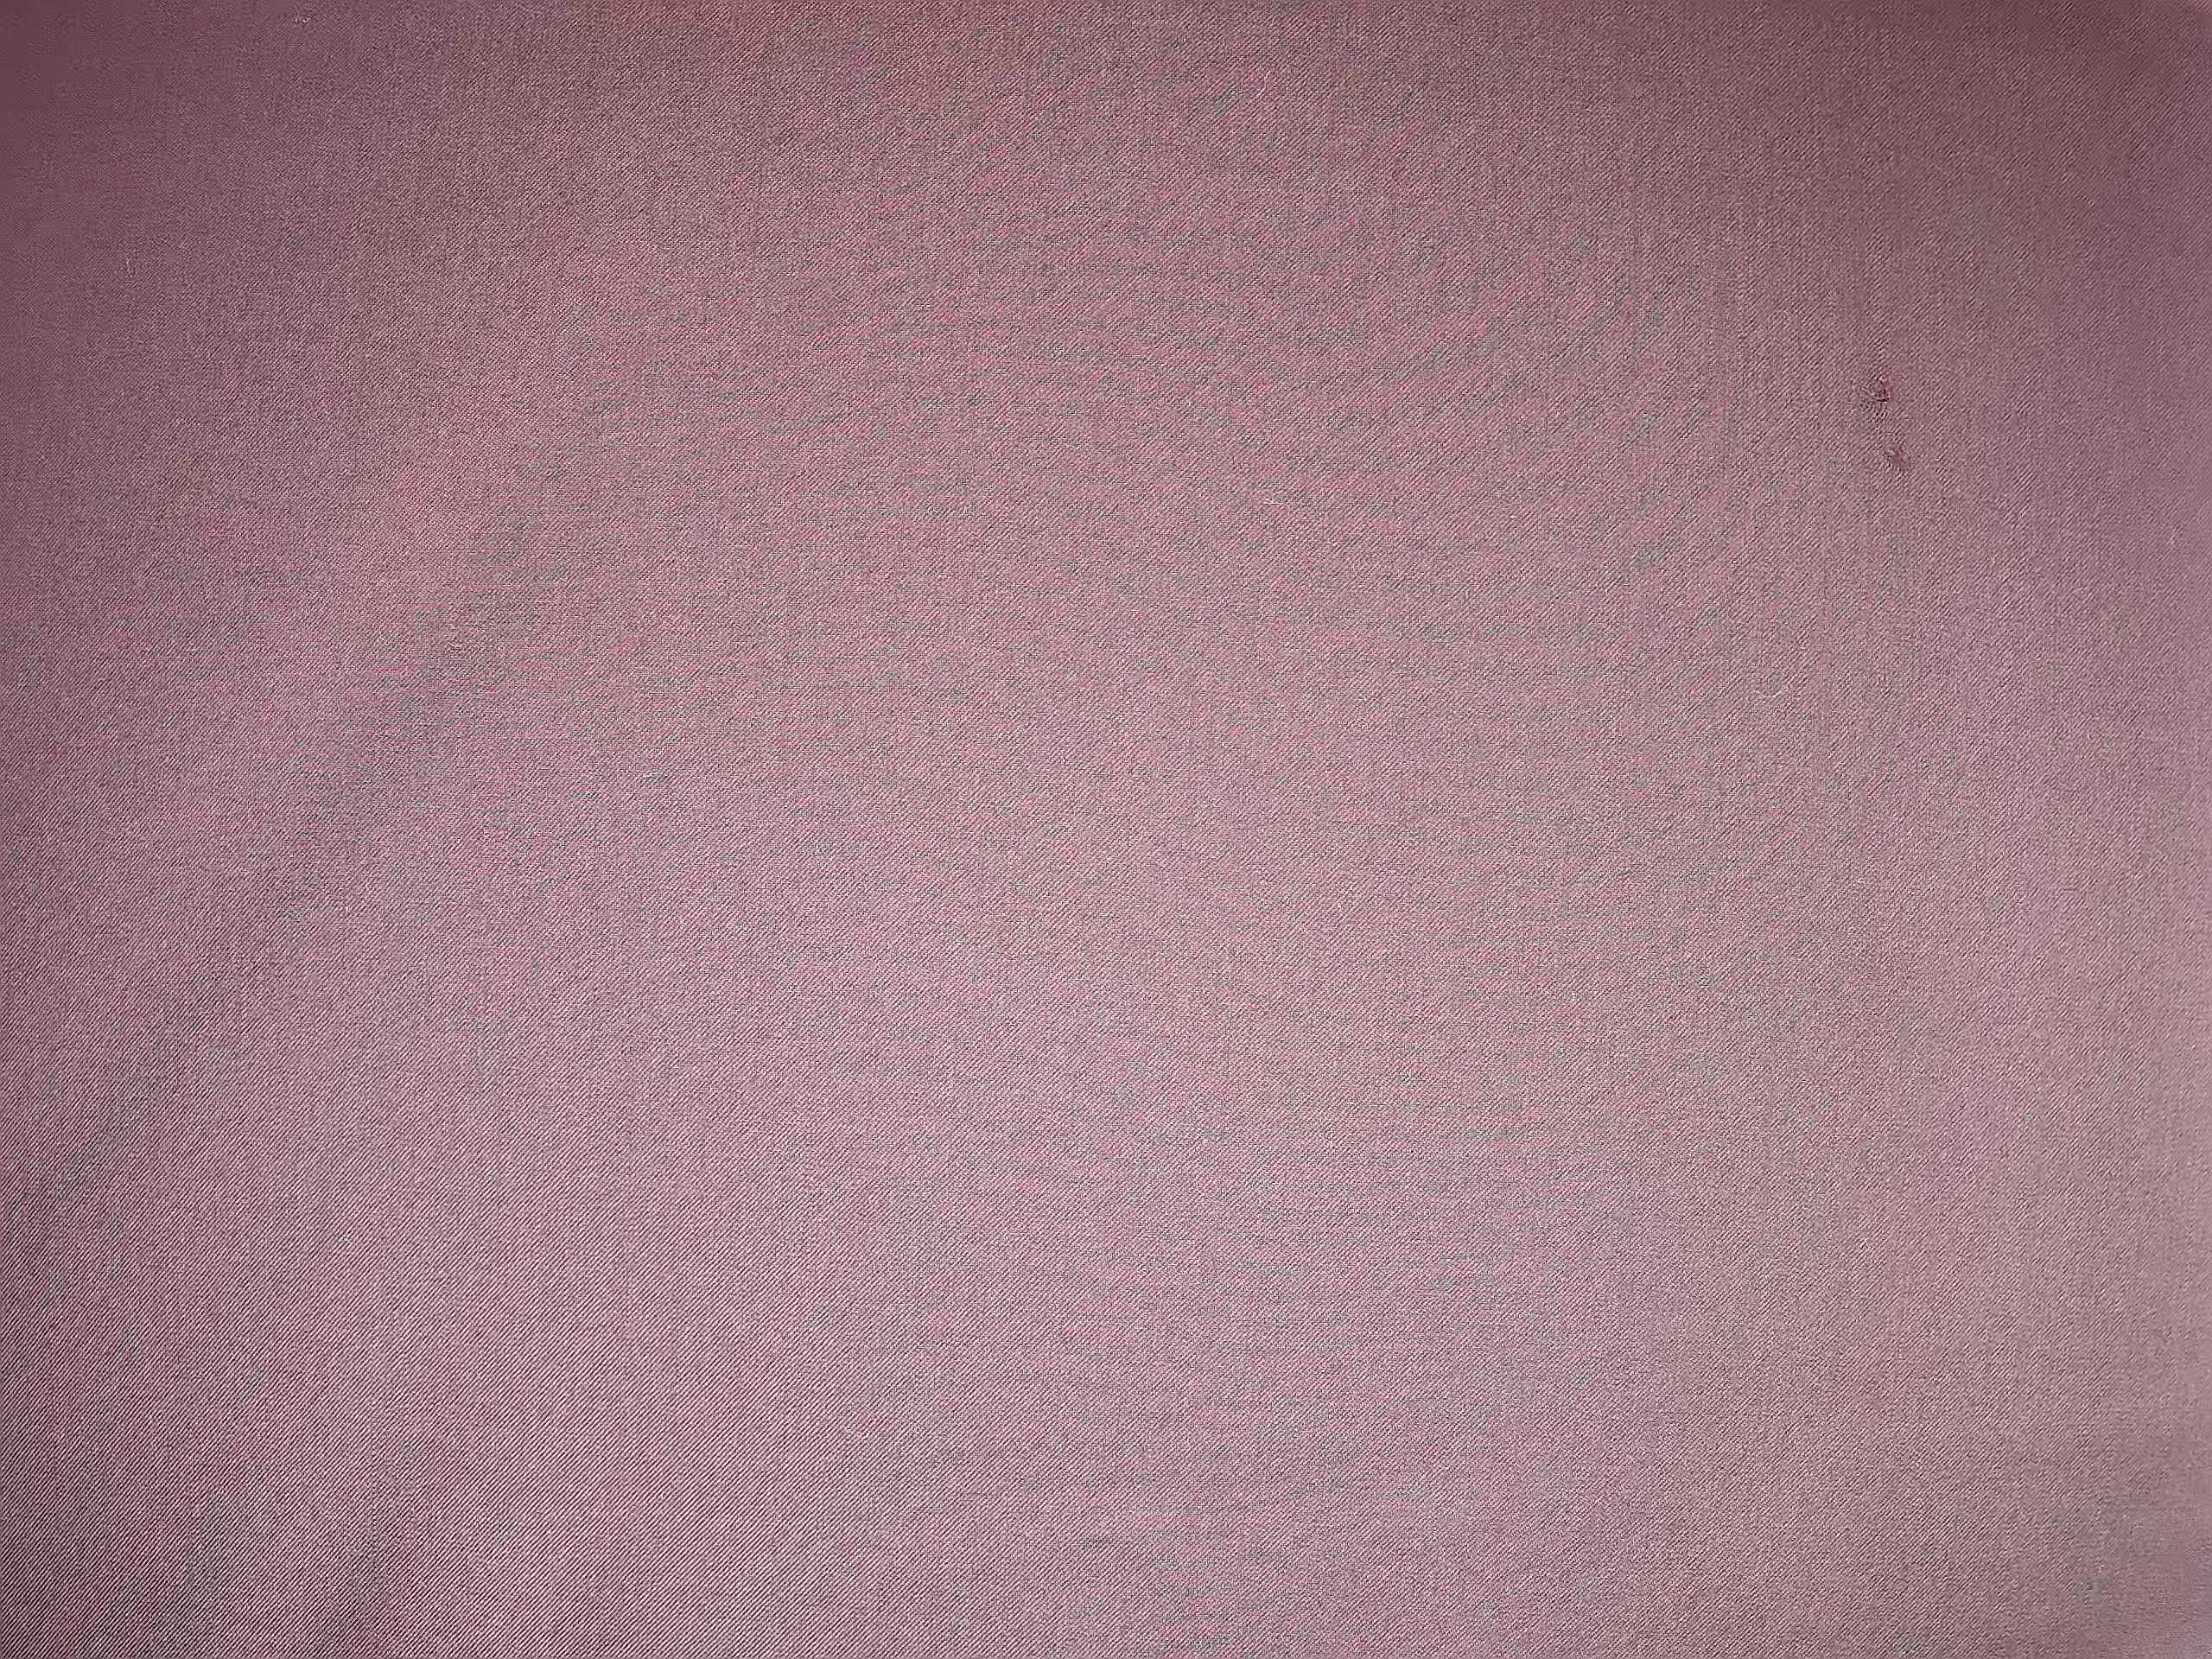rubbing-hole: (1858, 354, 1933, 490)
